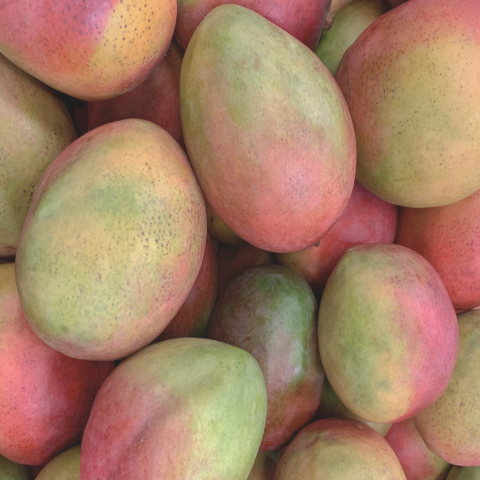mango: (143, 9, 397, 277), (3, 115, 214, 368), (82, 331, 287, 479), (311, 237, 457, 415)
